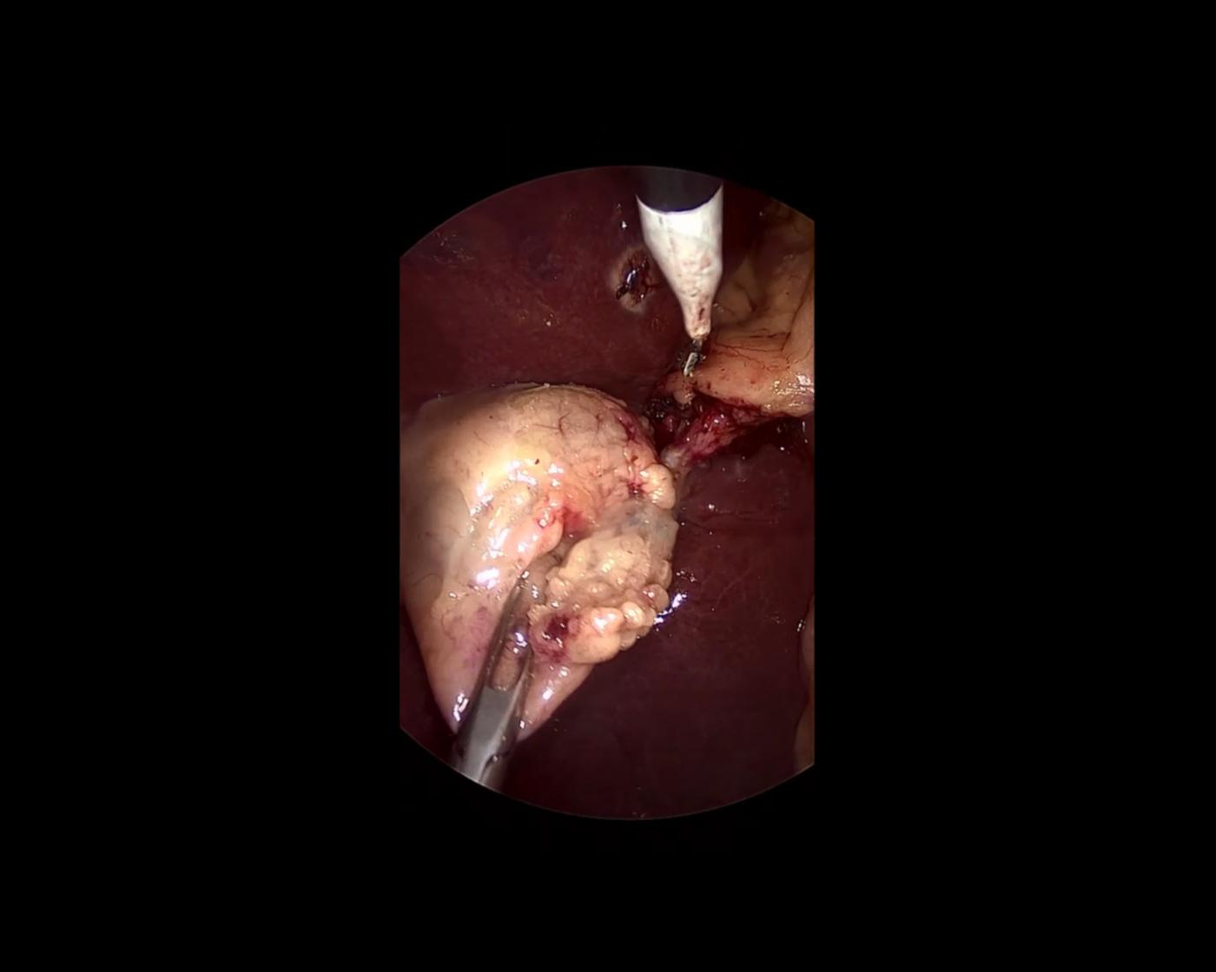Cautery: (635, 158, 745, 379)
Forceps: (448, 580, 563, 791)
Gallbladder: (402, 386, 673, 737)
Liver: (503, 404, 857, 852), (397, 167, 688, 422)
